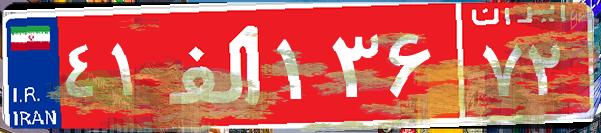1: (273, 28, 330, 110), (110, 28, 158, 105)
2: (525, 38, 570, 115)
3: (330, 28, 385, 110)
4: (57, 26, 110, 107)
6: (385, 28, 445, 110)
7: (475, 38, 525, 113)
الف: (158, 15, 273, 115)
